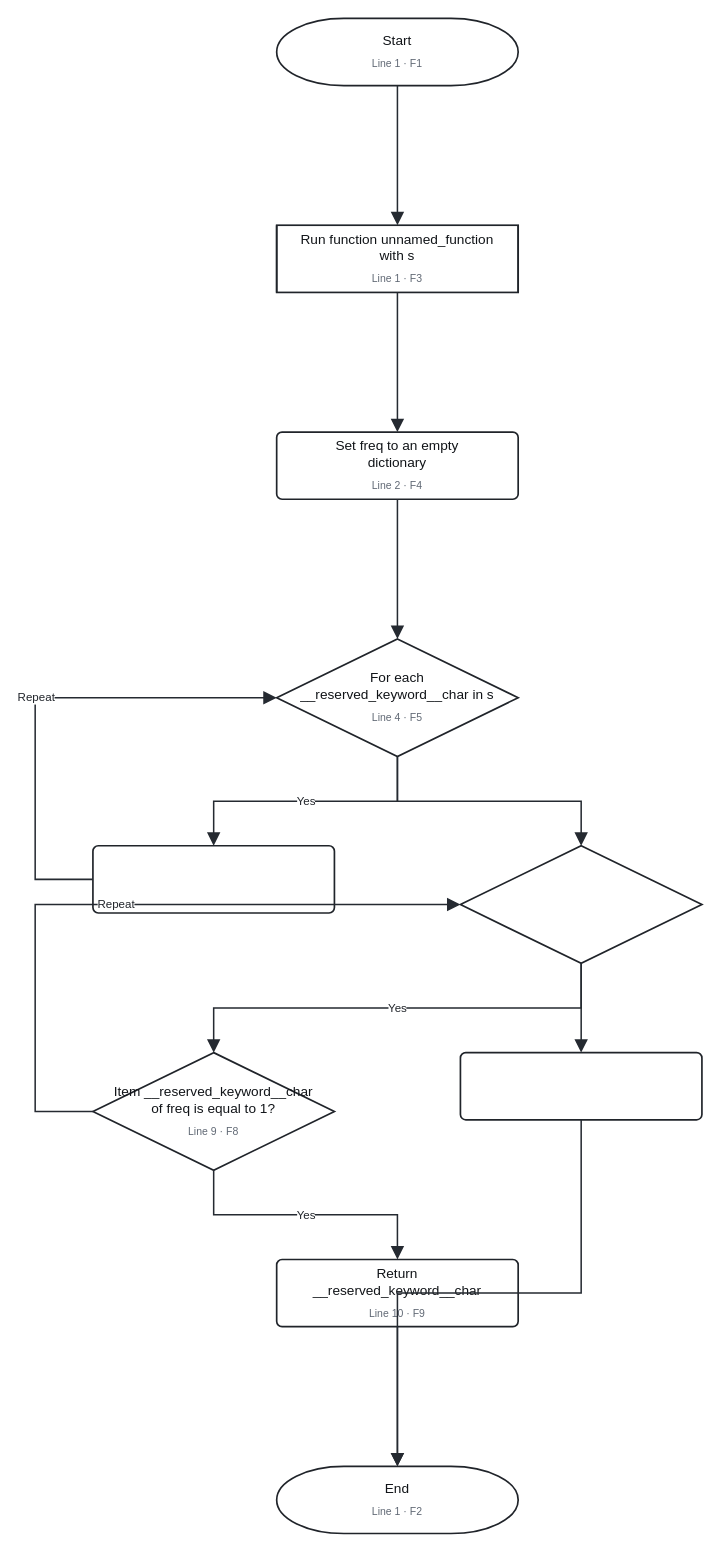
The diagram is 721 pixels wide and 1553 high, and some of its shapes have lost their labels. Each missing label, with the box of its shape:
For each __reserved_keyword__char in s Line 8 · F7: (459, 844, 702, 964)
Return nothing Line 14 · F10: (459, 1051, 702, 1120)
Set item __reserved_keyword__char of freq to the result of Line 5 · F6: (92, 844, 335, 913)
